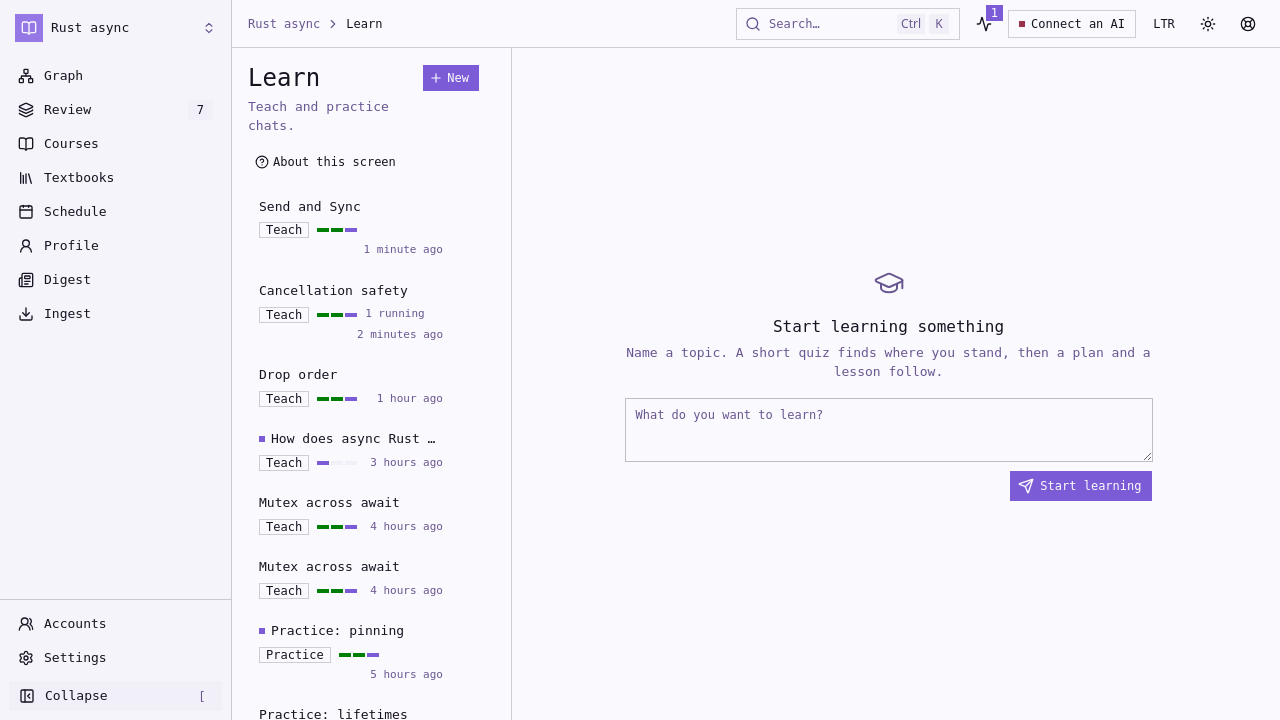
StartLearning and NewChatDialog › warns when no model account is ready
The image size is (1280, 720).
Expected: the navigation bar with test id "chat-list" is shown, [248,188,480,719]
Click the button with test id "new-chat" at (451, 78), box [422,64,480,92]
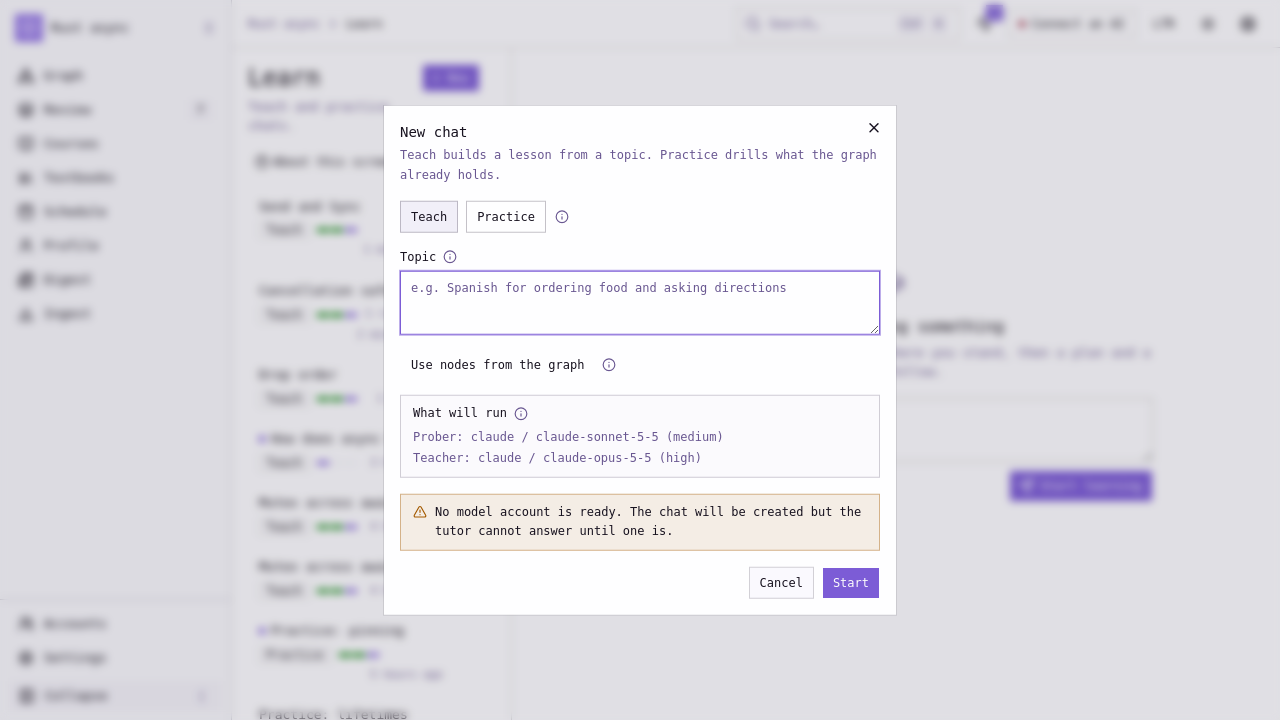
Now the message with test id "new-chat-no-account" is shown, box [400,493,880,550]
